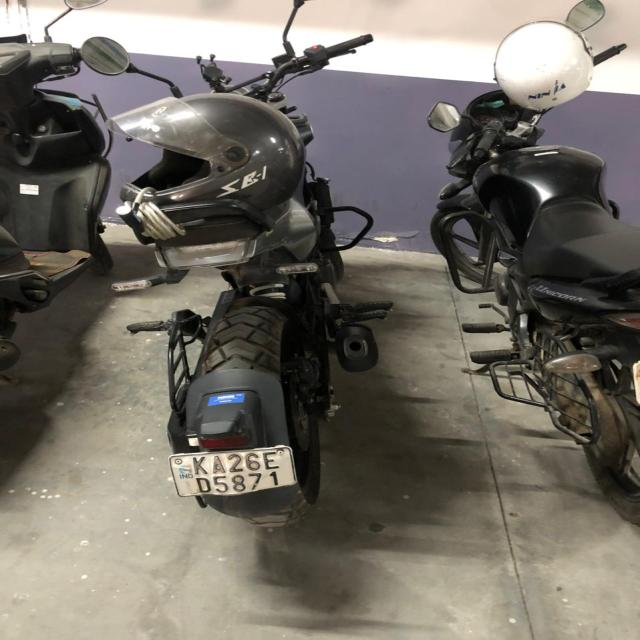license_plate: (168, 445, 298, 497)
